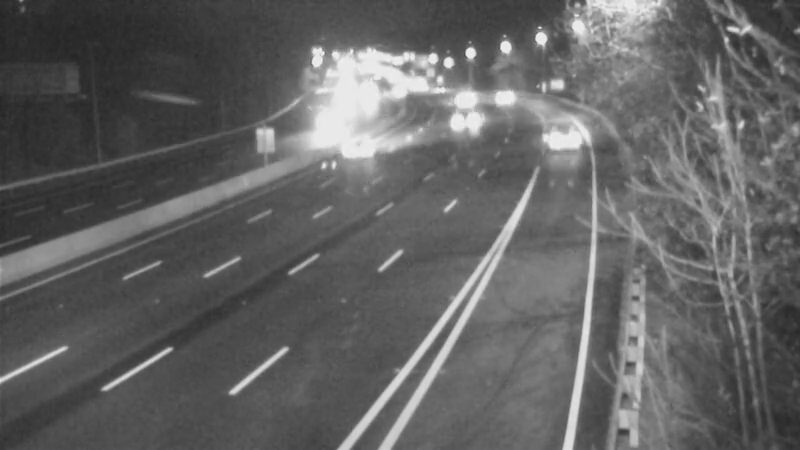vehicle: (377, 65, 427, 115), (434, 76, 484, 126), (484, 74, 534, 124), (438, 87, 488, 137), (534, 115, 584, 165), (336, 124, 386, 174), (304, 100, 354, 150)
